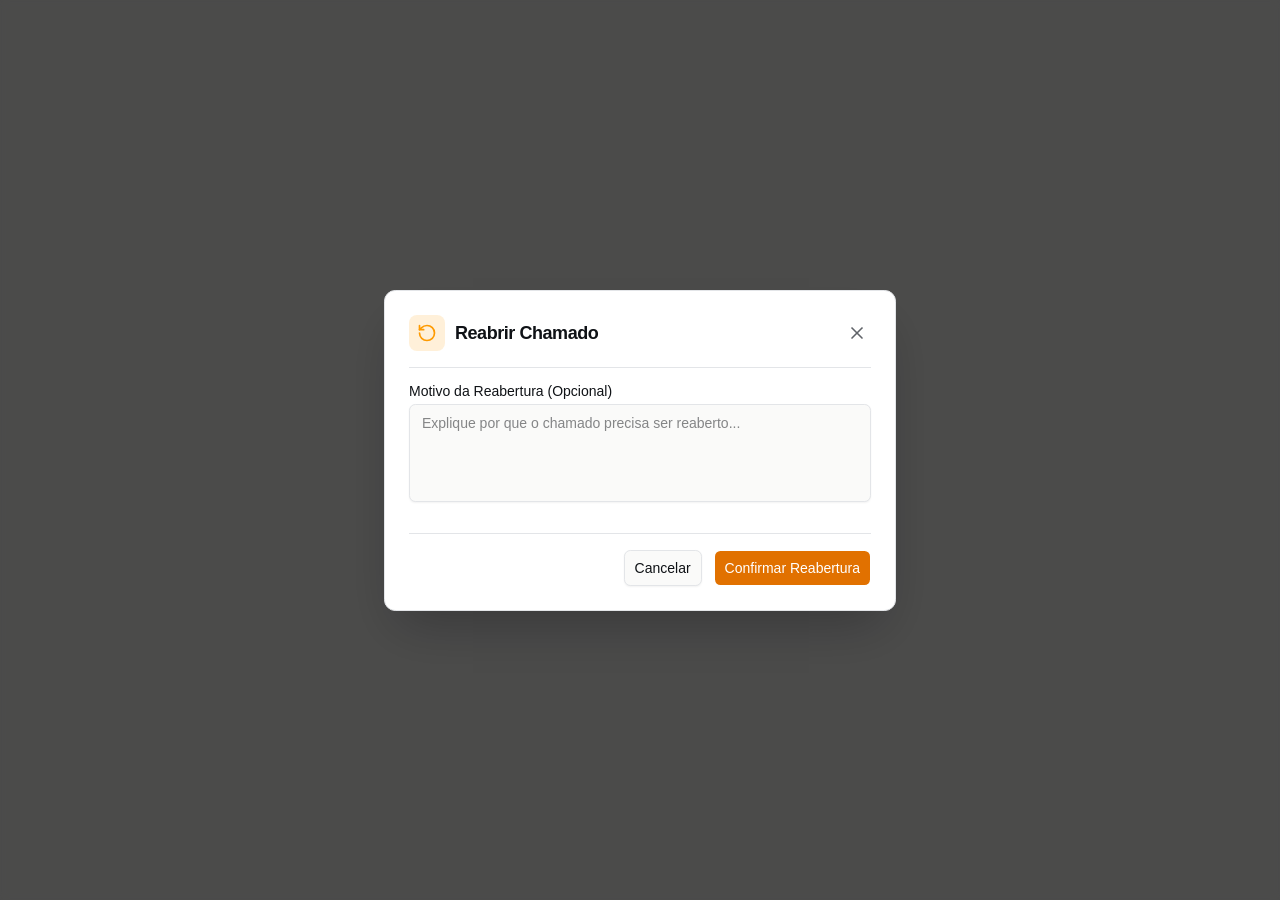
ReopenTicketModal › deve exibir mensagem de erro se a API falhar
Click the button "Confirmar Reabertura": click(792, 568) [714, 550, 871, 586]
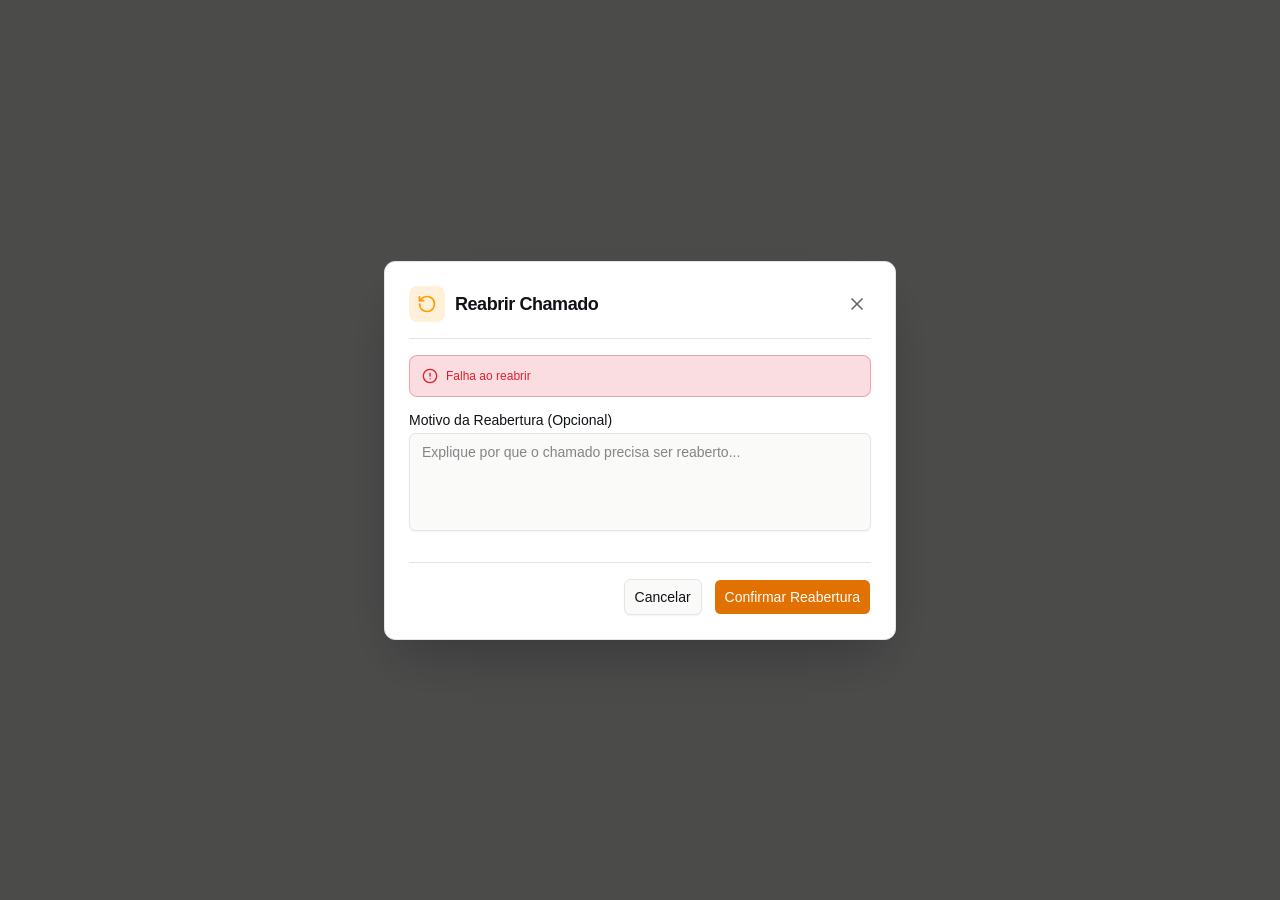
Result: the text "Falha ao reabrir" is shown at [446, 368, 531, 384]
